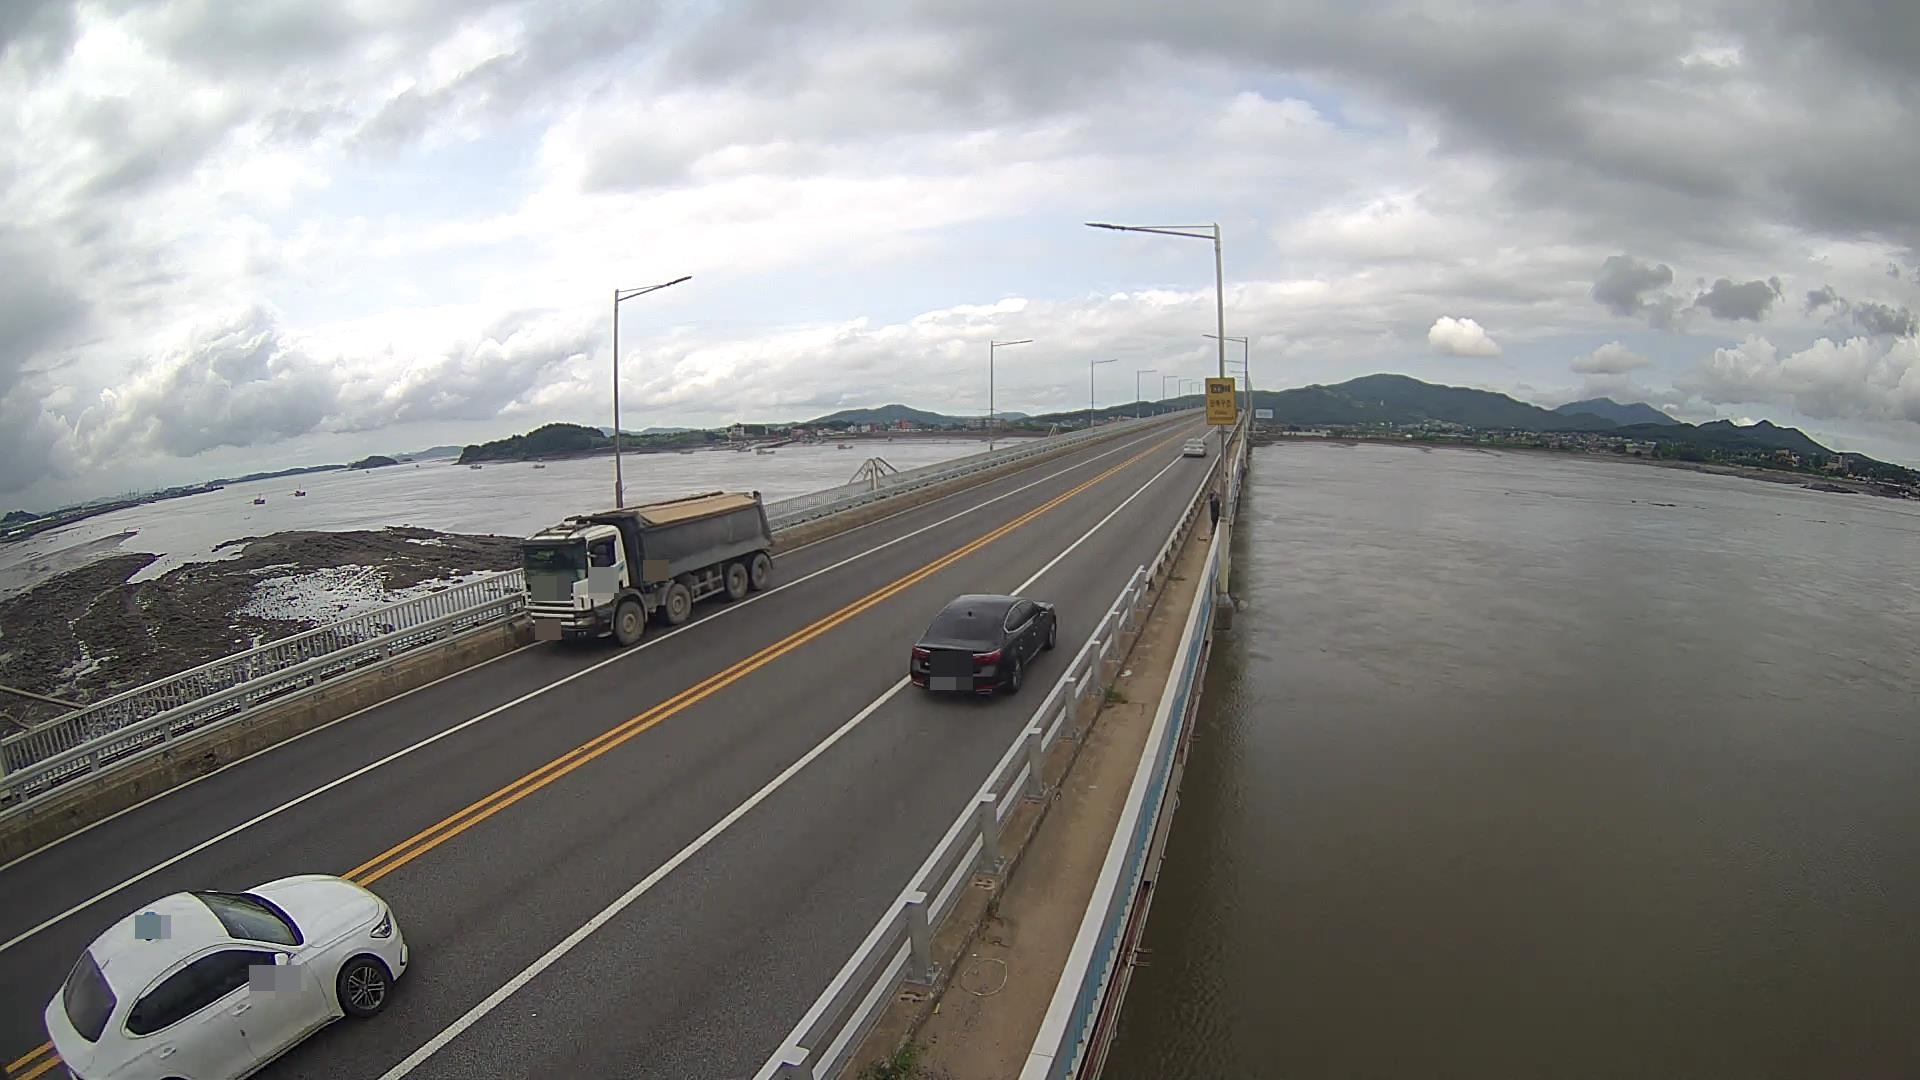정상차량: (519, 489, 776, 643)
